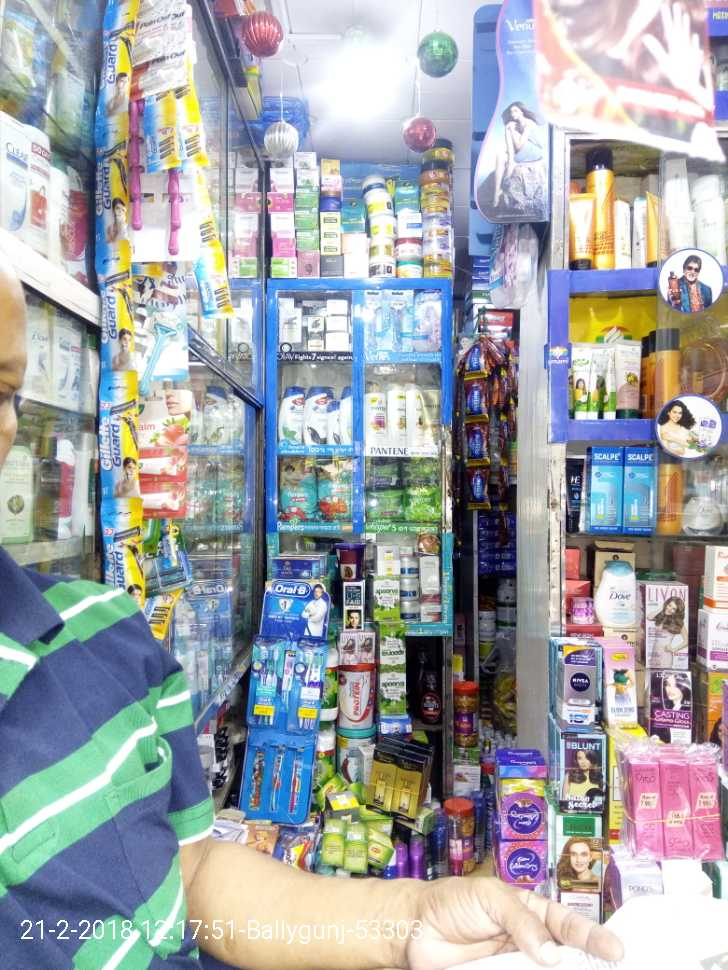gillete: (92, 125, 128, 259), (95, 9, 136, 116), (99, 280, 136, 396), (101, 399, 138, 495), (102, 505, 139, 589), (147, 526, 187, 590), (197, 246, 229, 312), (179, 88, 205, 164), (145, 95, 172, 163), (146, 595, 173, 635)
venus: (141, 293, 180, 393), (159, 168, 189, 258), (414, 289, 442, 349), (387, 288, 414, 349), (365, 288, 387, 346), (131, 121, 140, 231)
